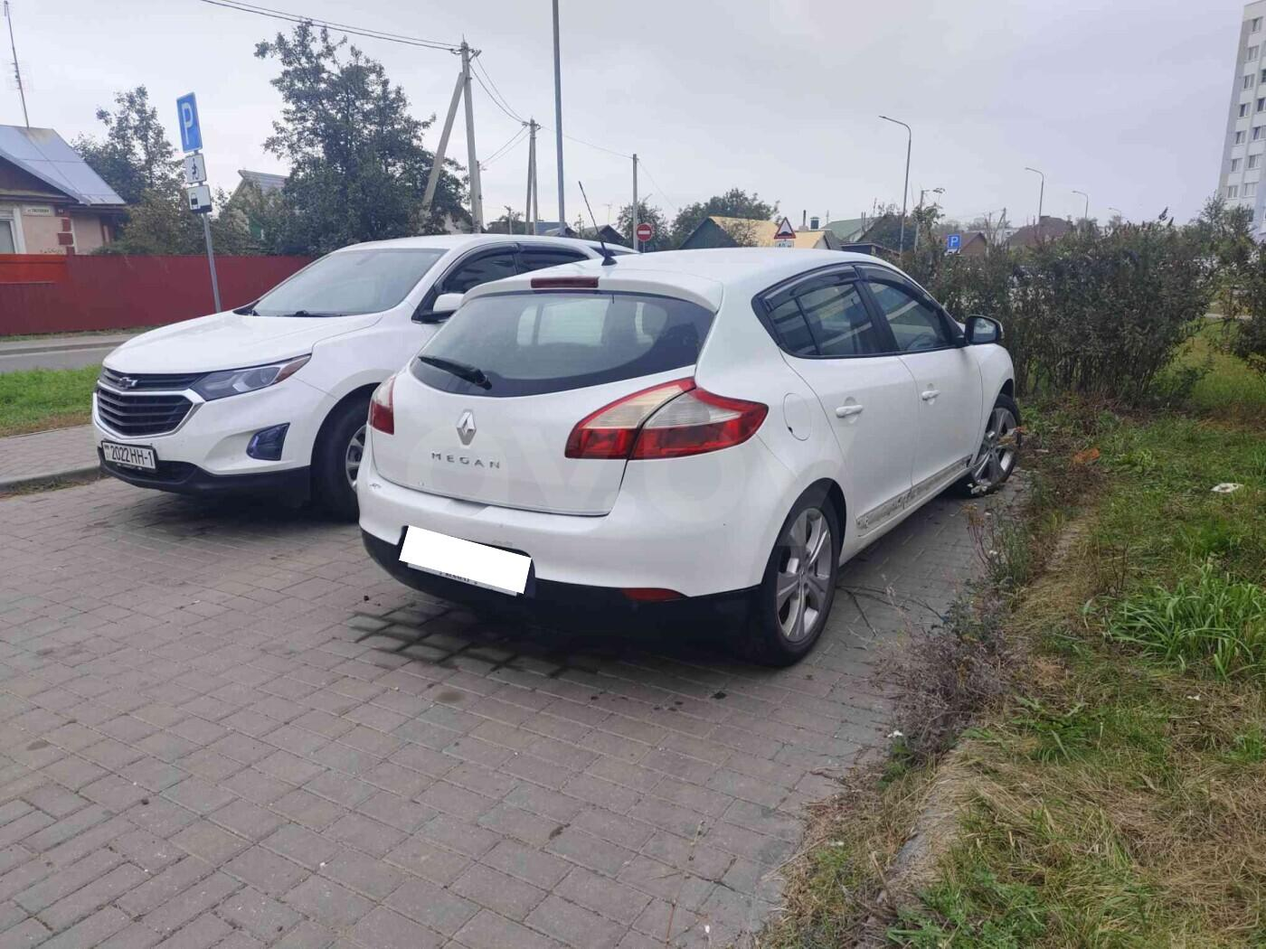Laguna_2010-2015: (359, 256, 1054, 678)
